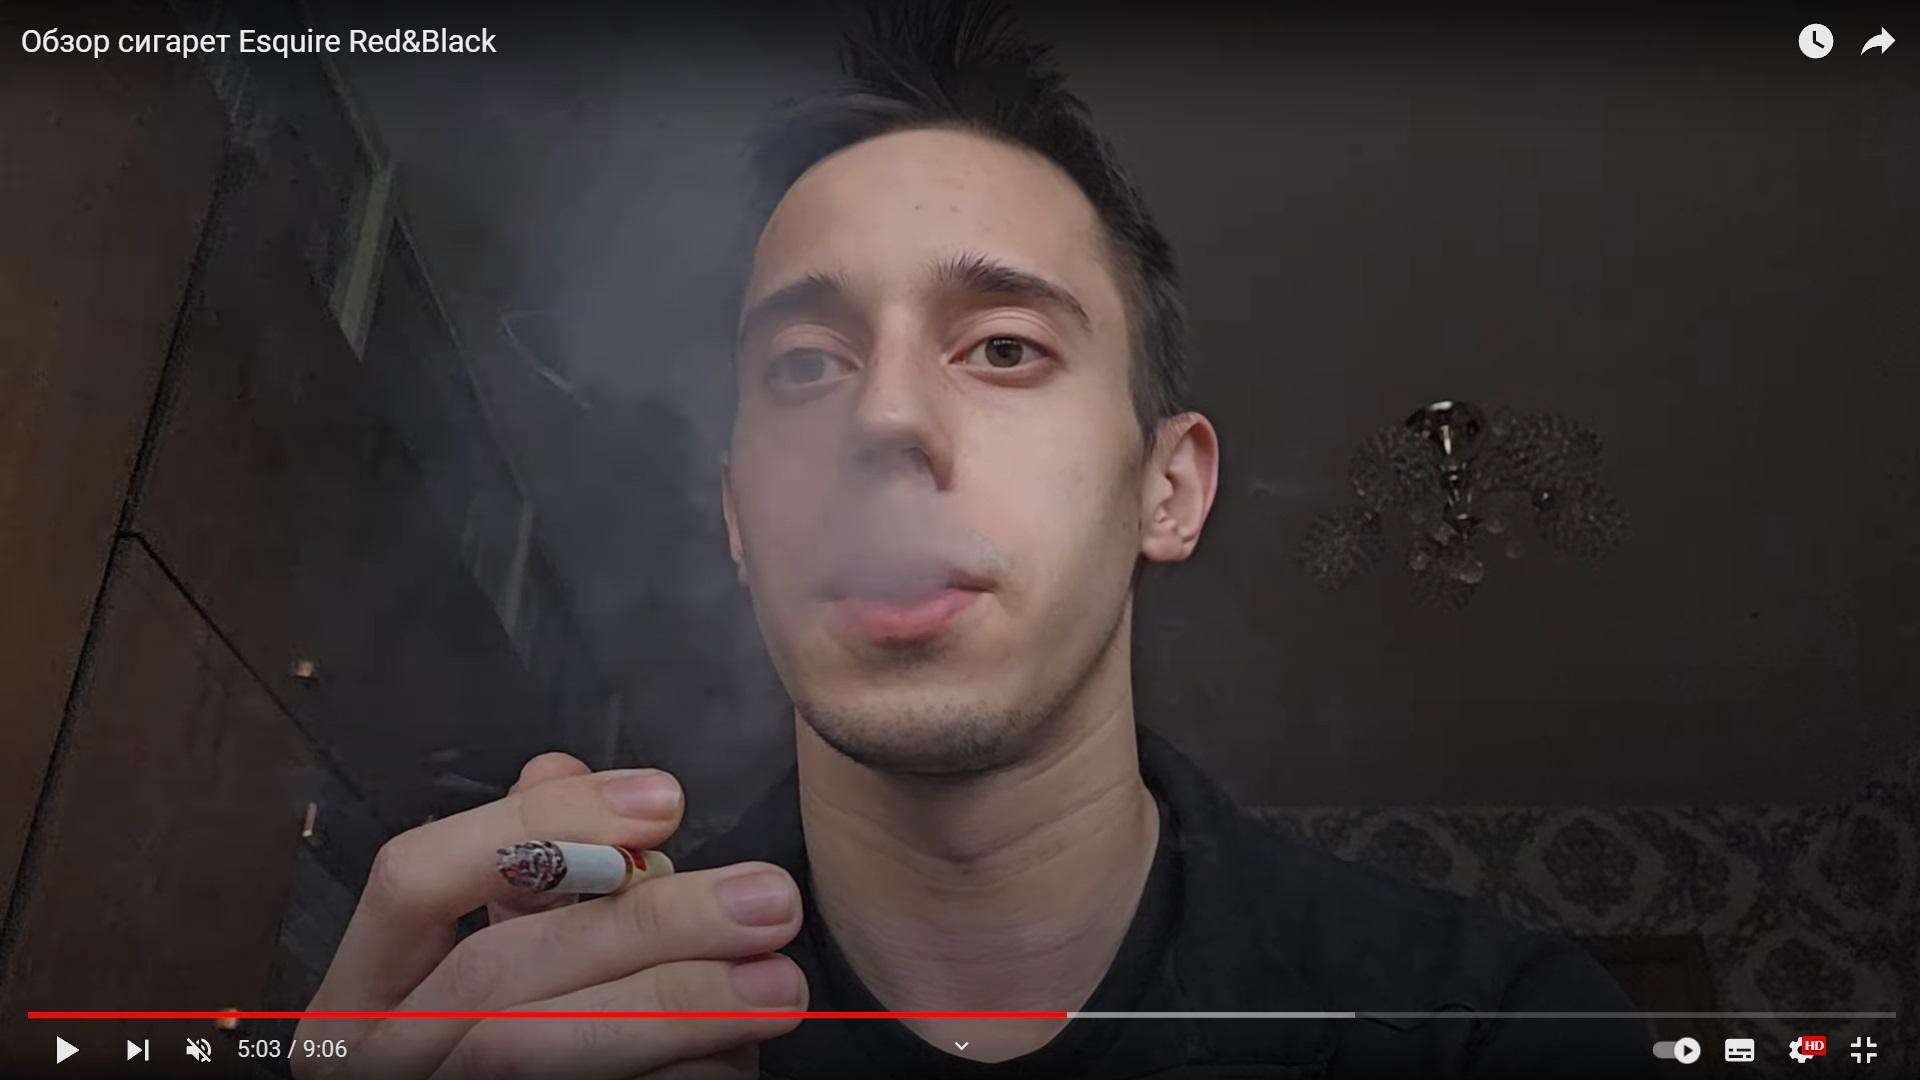cigarette: (495, 840, 675, 894)
